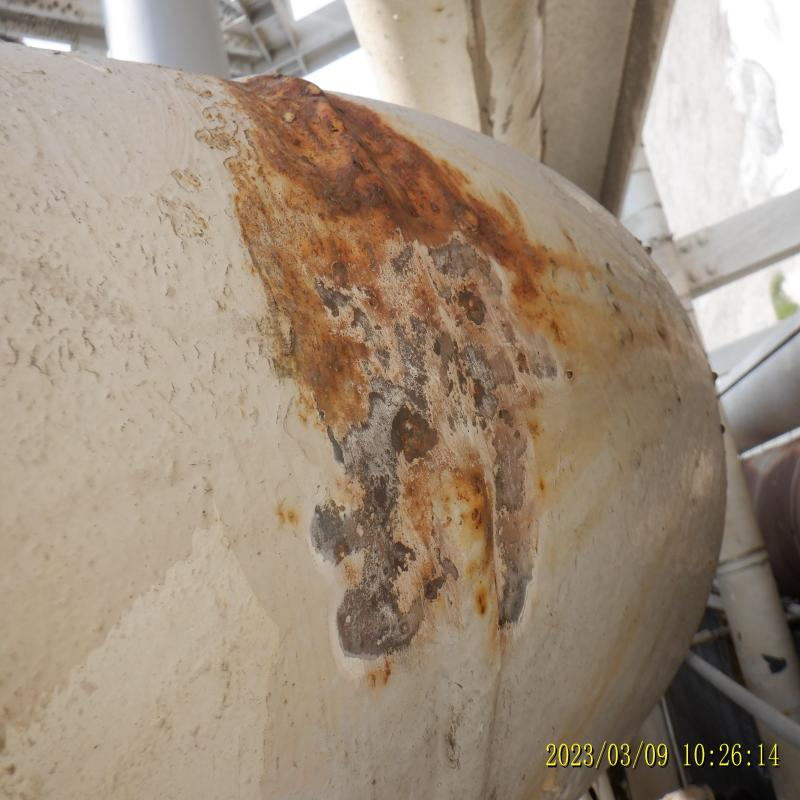corrosion: (371, 227, 507, 435), (238, 76, 347, 243)
